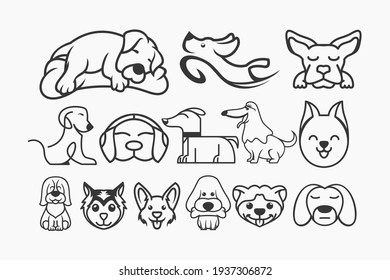dog: (37, 32, 169, 98), (177, 27, 277, 89), (284, 28, 367, 92), (223, 102, 297, 165), (163, 108, 238, 168), (32, 109, 97, 168), (299, 102, 353, 166), (102, 114, 169, 163), (288, 180, 359, 223), (133, 180, 185, 230), (233, 183, 287, 227), (79, 178, 127, 226), (190, 175, 230, 229), (40, 176, 73, 230)
